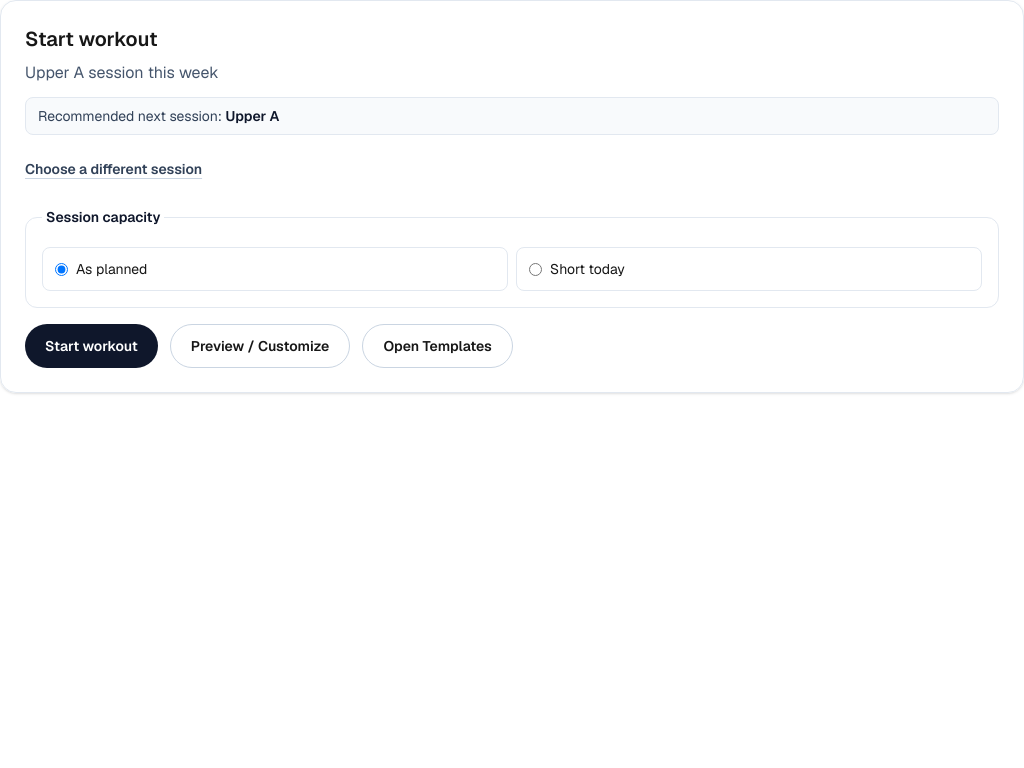
IntentWorkoutCard › shows the server-authored Short-today preview and can cancel it before creation
Step 1. Click the radio button labelled "Short today" → [536, 269], box [529,262,542,276]
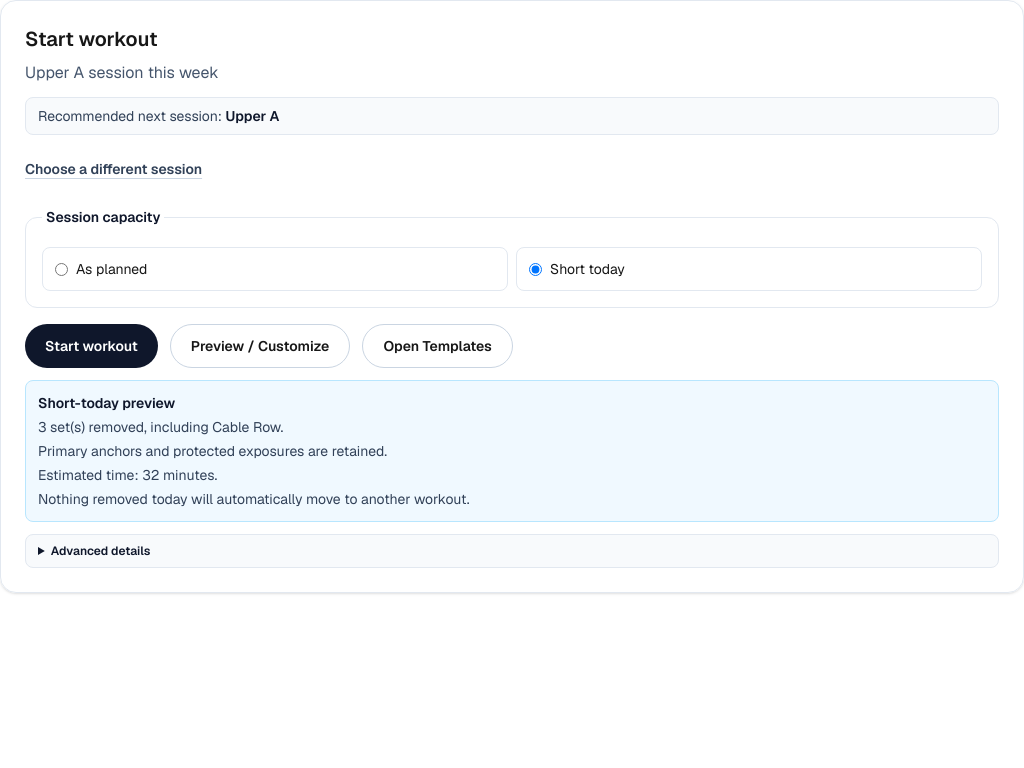
Now the text "Short-today preview" is shown, box [38,394,175,412]
Now the text "3 set(s) removed, including Cable Row." is shown, box [38,418,283,436]
Now the text "Estimated time: 32 minutes." is shown, box [38,466,217,484]
Step 2. Click the radio button labelled "As planned" → [62, 269], box [55,262,68,276]
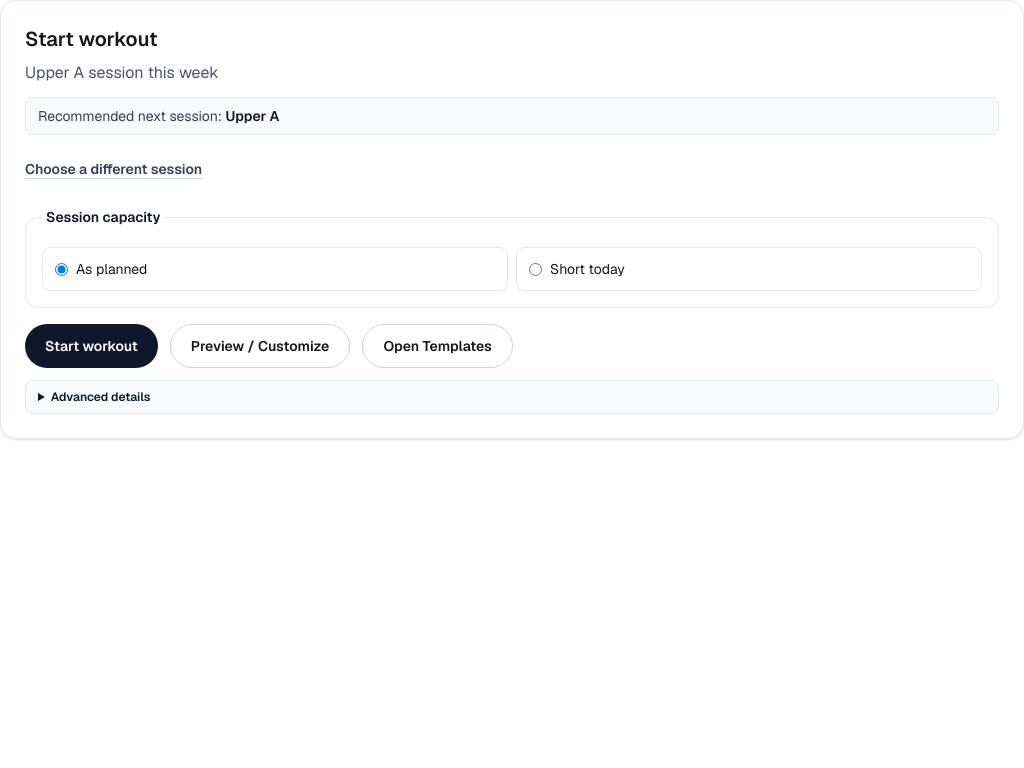
Now the text "Short-today preview" is gone
